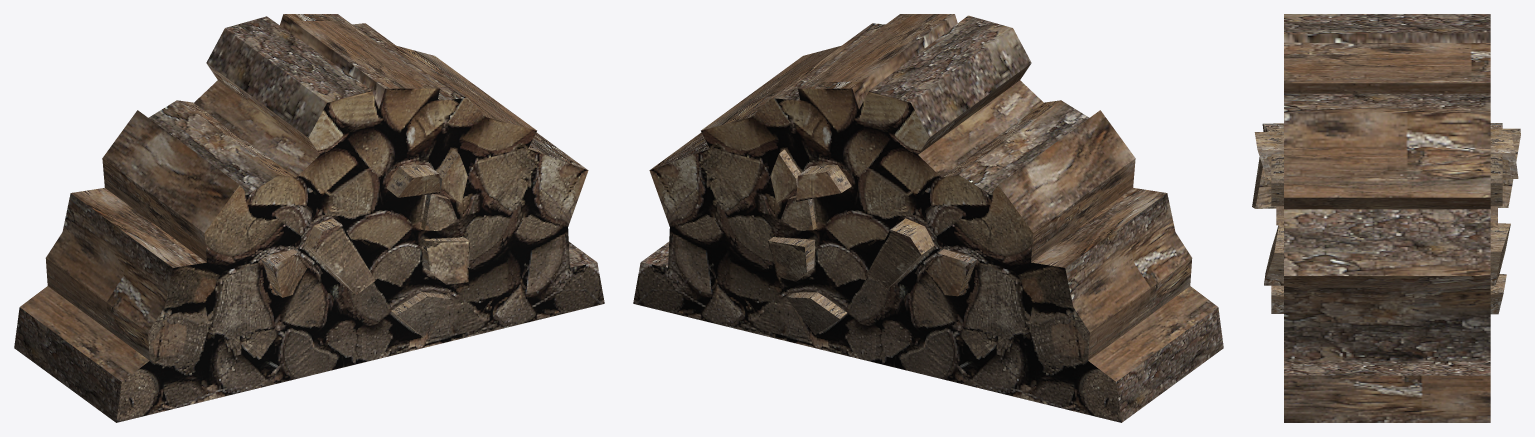
The model's file is Lumber2.fbx.
3 views of the same model, side by side, from view 1: azimuth 30°, elevation 25°; view 2: azimuth 150°, elevation 25°; view 3: azimuth 270°, elevation 25° (orthographic).
Parts seen in each view (by area): view 1: polySurface442; view 2: polySurface442; view 3: polySurface442.
Boxes of the visible parts, x1,y1,x2,y2 form: polySurface442: (14,14,604,422); polySurface442: (633,14,1223,422); polySurface442: (1252,14,1520,422).
Size of the model in its own units: 5.78 by 3.06 by 2.72.
